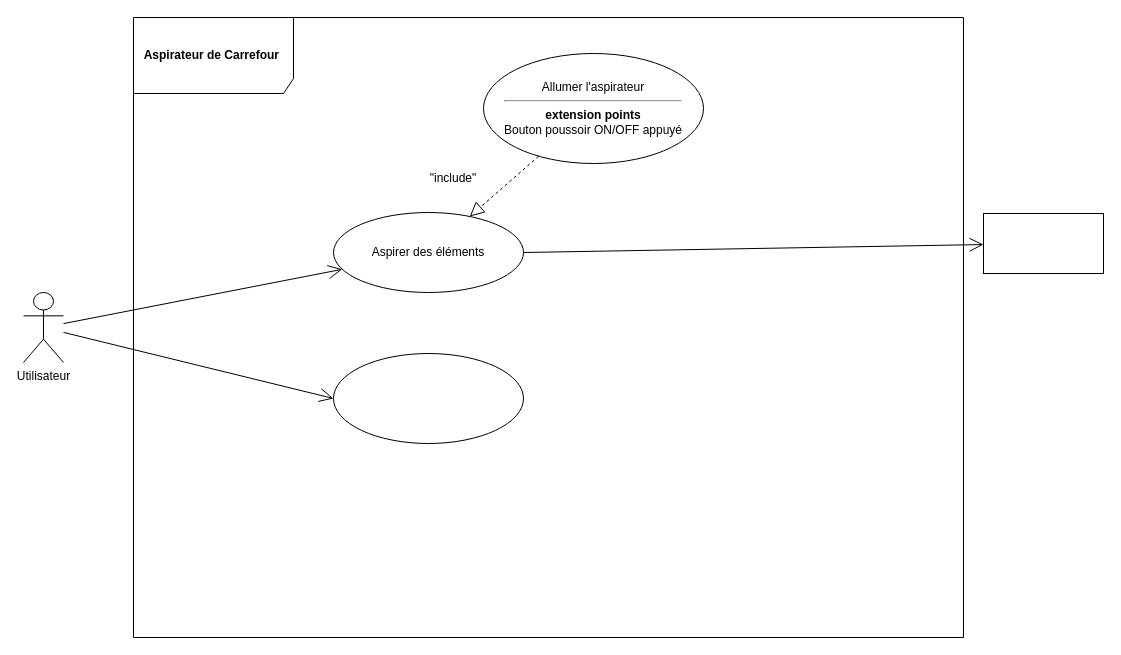
Some shapes in this 1121 by 655 pixel diagram are drawn without their labels. The shapes that lost their labels are listed below. From the top down, each one's box as (x1, y1, x2, y2) in pixels, then its label:
(982, 212, 1104, 274): Poussière, débris, etc...
(332, 352, 524, 444): Vider les éléments du filtre
